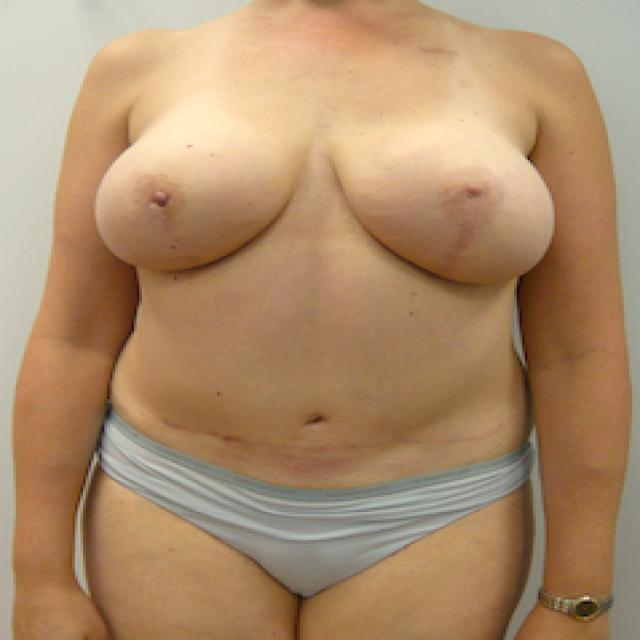Seno herido: (324, 93, 564, 301)
Seno ileso: (85, 92, 317, 288)
